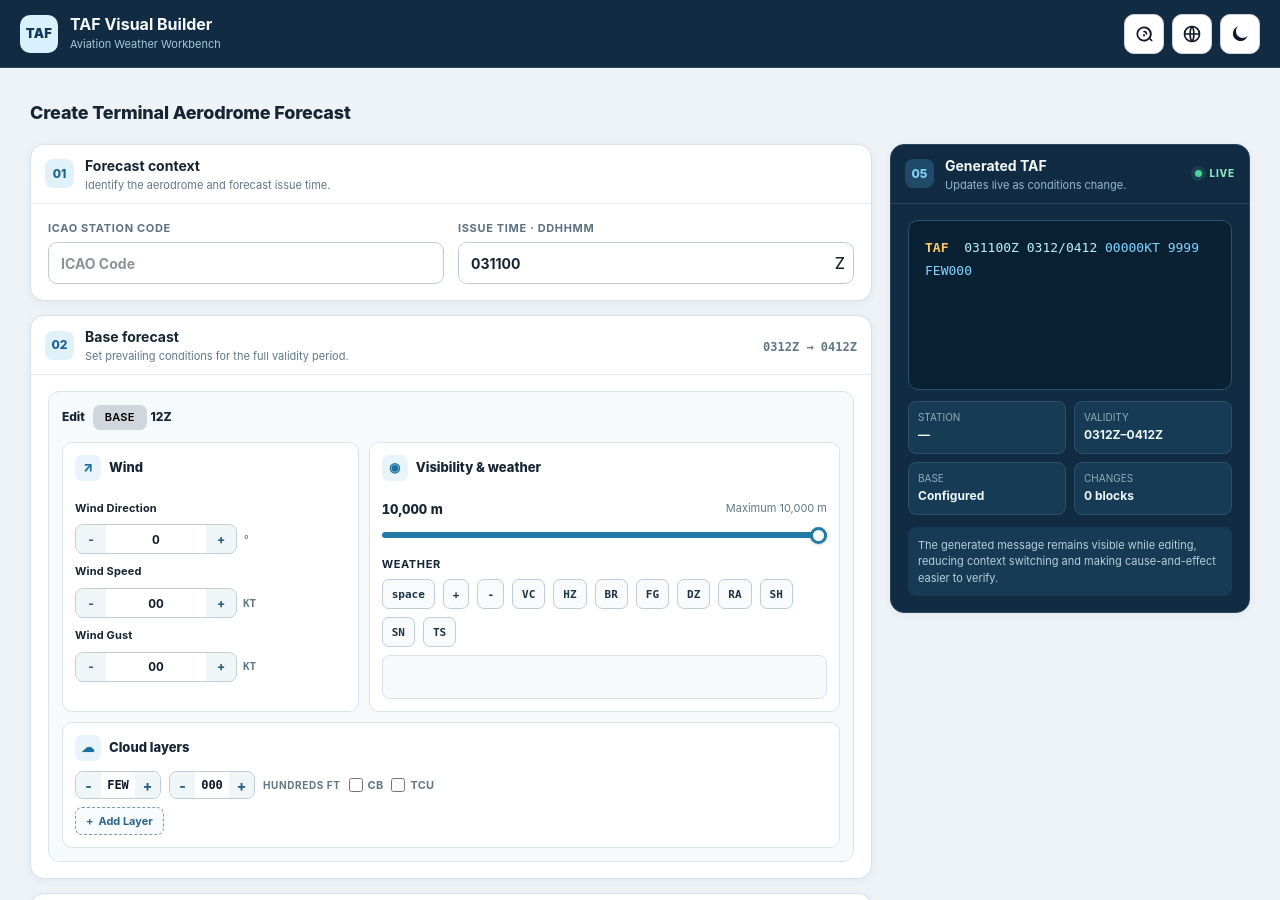
Test case: TafBuilder aviation workbench › keeps generated output connected to the existing state
Type "RCTP" into the field labelled "ICAO station code" at (246, 263), box [48,242,444,284]
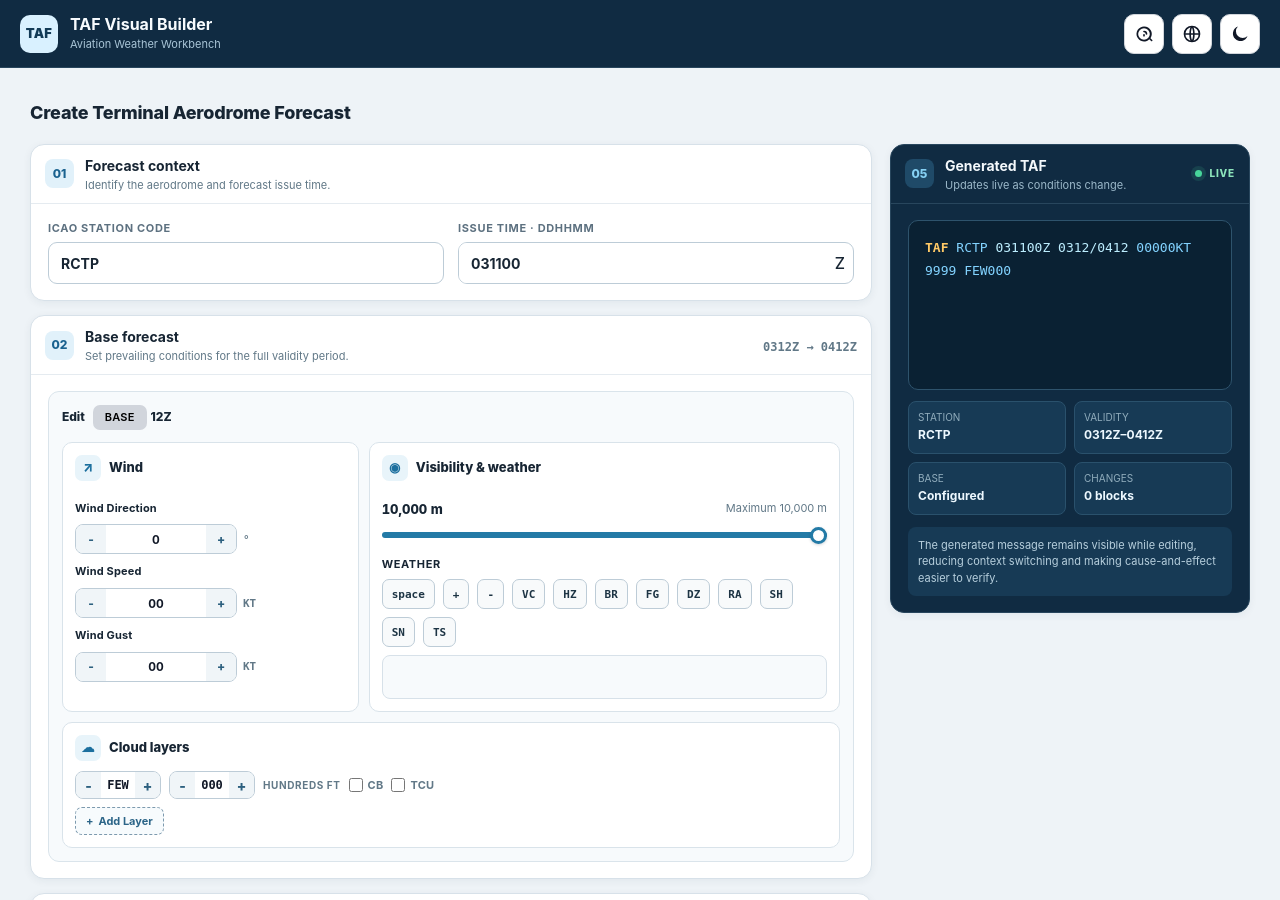
Expected: the element with test id "generated-taf" shows "TAF RCTP 031100Z", [908,220,1232,390]
